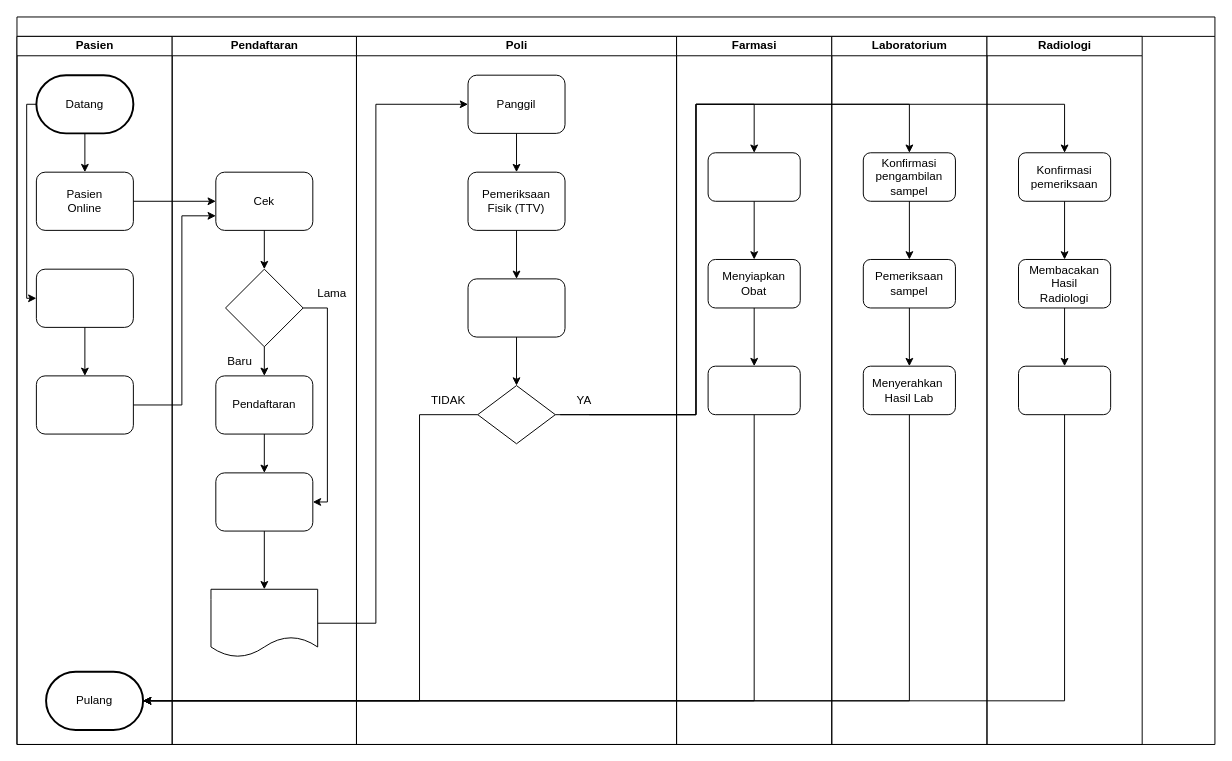
Some shapes in this 1232 by 761 pixel diagram are drawn without their labels. Here are the shapes that lost their labels. From the top down, the centre of each, then its label:
At pixel 753 176: "Menunggu Obat".
At pixel 84 297: "Pasien Offline".
At pixel 264 307: "Pasien?".
At pixel 516 307: "Periksa Dokter Spesialis".
At pixel 84 404: "Anjungan".
At pixel 753 390: "Memberikan Obat".
At pixel 1064 390: "Menyerahkan Hasil Radiologi".
At pixel 264 501: "Registrasi".
At pixel 264 622: "Likap".
